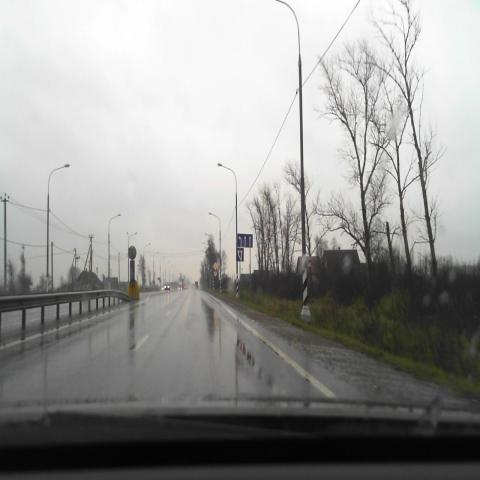5_15_1: (236, 234, 253, 248)
